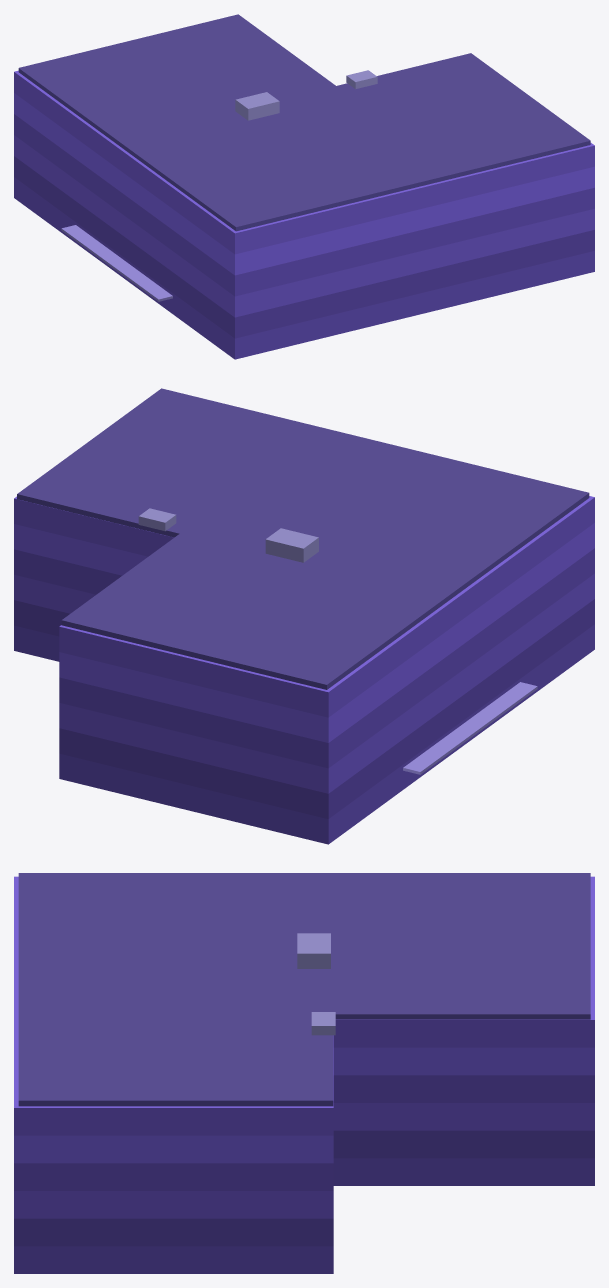
3 views of the same model, one above another, from view 1: azimuth 30°, elevation 25°; view 2: azimuth 150°, elevation 25°; view 3: azimuth 270°, elevation 25° (orthographic). The views are drawn at different scales.
Visible parts, largest first — view 1: shell; view 2: shell; view 3: shell.
Boxes of the visible parts, left/top/right/bottom form: shell: left=14, top=14, right=594, bottom=359; shell: left=14, top=388, right=594, bottom=844; shell: left=14, top=873, right=594, bottom=1273.
Bounding box in the file's own units: 83.2 × 30.2 × 85.
